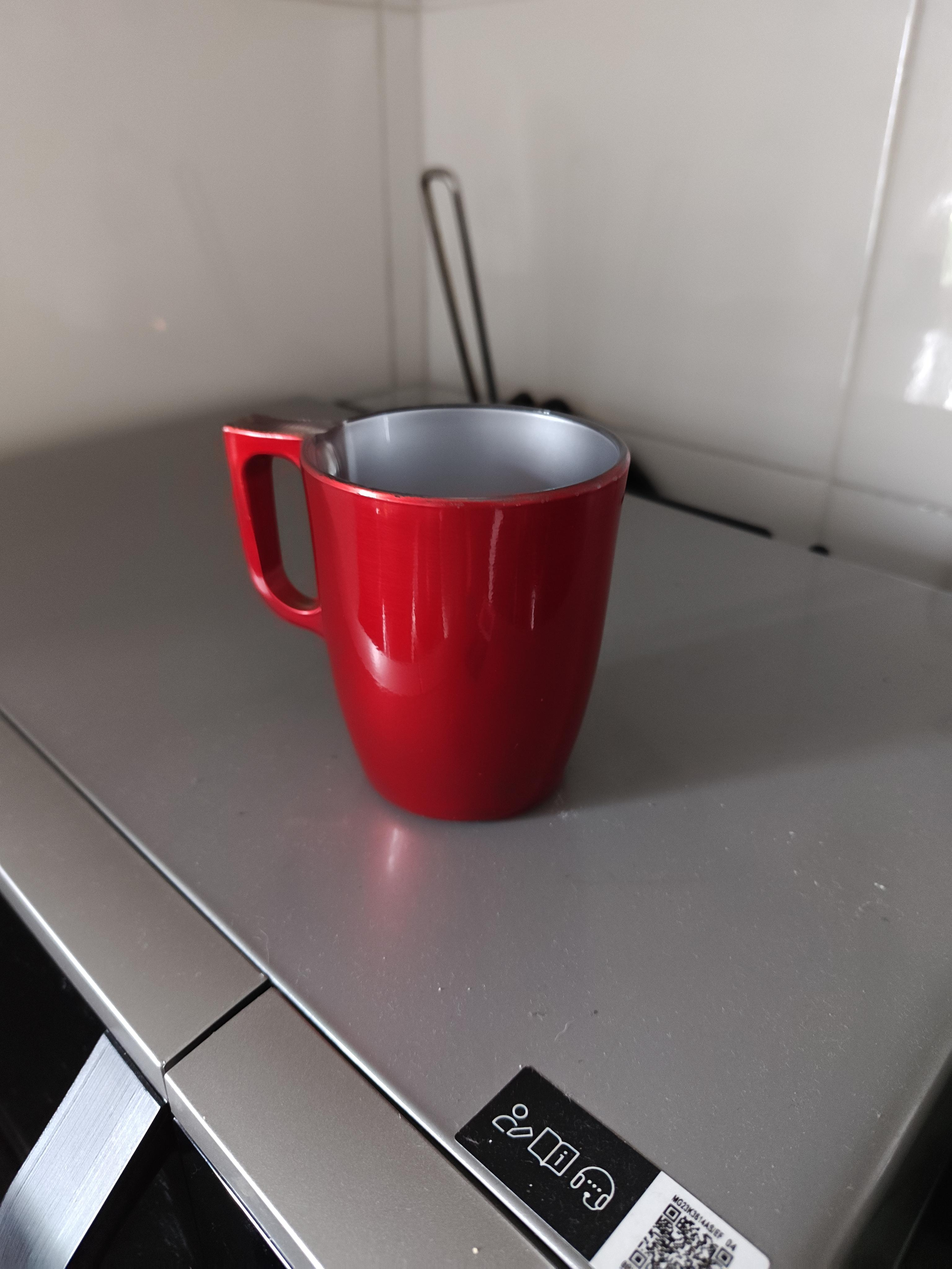mug: (221, 404, 631, 823)
